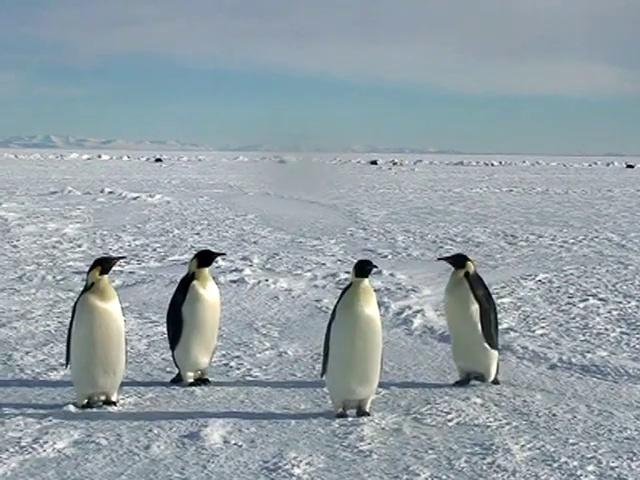animal: (322, 260, 384, 418)
